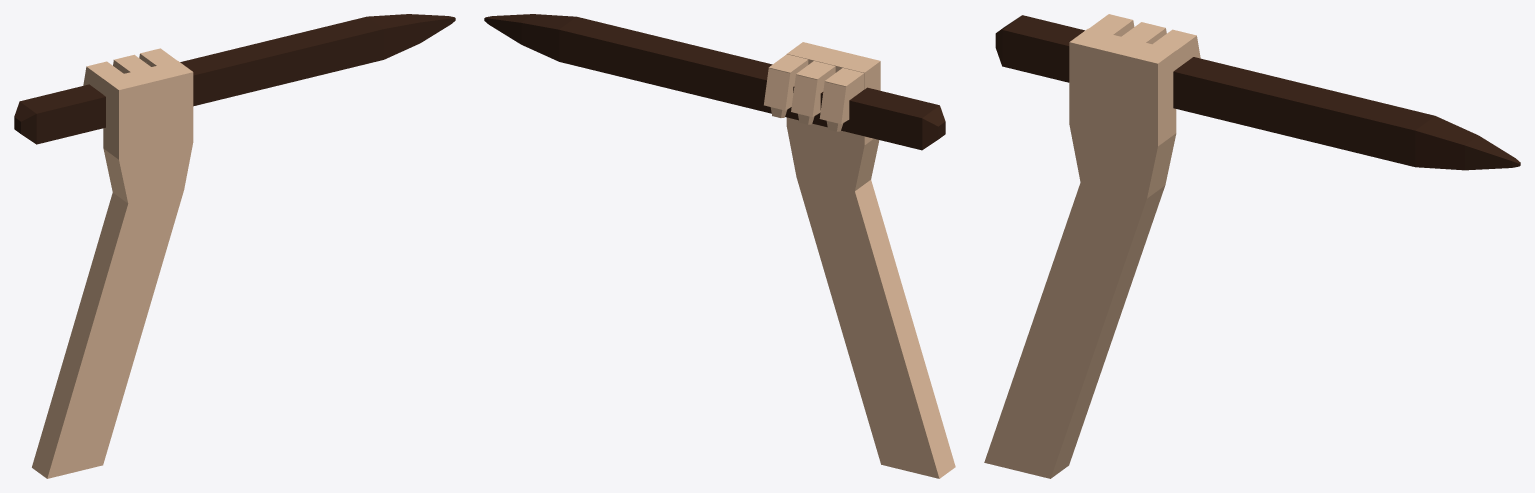
The model's file is Hand.glb.
3 views of the same model, side by side, from view 1: azimuth 30°, elevation 25°; view 2: azimuth 150°, elevation 25°; view 3: azimuth 330°, elevation 25° (orthographic). The views are drawn at different scales.
Visible parts, largest first — view 1: Cube.008, Cube.010; view 2: Cube.008, Cube.010; view 3: Cube.008, Cube.010.
Part boxes in pixels (<box>): Cube.008: <box>32,48,193,478</box>; Cube.010: <box>14,14,455,144</box>; Cube.008: <box>764,42,955,478</box>; Cube.010: <box>484,14,945,150</box>; Cube.008: <box>984,14,1200,478</box>; Cube.010: <box>995,15,1520,170</box>.
Bounding box in the file's own units: 8.99 × 7.29 × 1.34.
